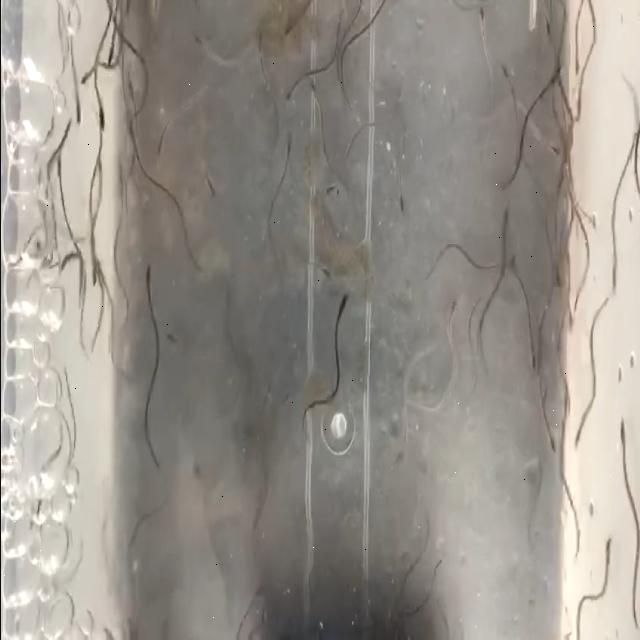active_glass_eel: (330, 290, 354, 333), (318, 171, 342, 213), (599, 524, 615, 577), (72, 76, 87, 132), (92, 86, 109, 134), (498, 248, 520, 284), (86, 238, 100, 294), (548, 254, 564, 299), (310, 260, 330, 296), (572, 80, 585, 135), (78, 58, 100, 90), (141, 260, 155, 310), (190, 459, 206, 502), (541, 415, 556, 460), (524, 340, 540, 382), (545, 132, 563, 168), (102, 26, 116, 72), (56, 248, 74, 282), (282, 73, 298, 111), (395, 408, 411, 446), (188, 32, 212, 57), (198, 168, 218, 198), (300, 71, 318, 104), (536, 13, 552, 50), (566, 41, 582, 78), (124, 80, 138, 122), (497, 59, 515, 91), (154, 128, 167, 172), (446, 295, 461, 333), (284, 117, 296, 164), (472, 0, 486, 40), (164, 331, 184, 357), (572, 409, 584, 451), (499, 197, 509, 243), (52, 152, 64, 190), (393, 184, 408, 214), (280, 18, 296, 42), (609, 254, 619, 292), (618, 422, 628, 452)
